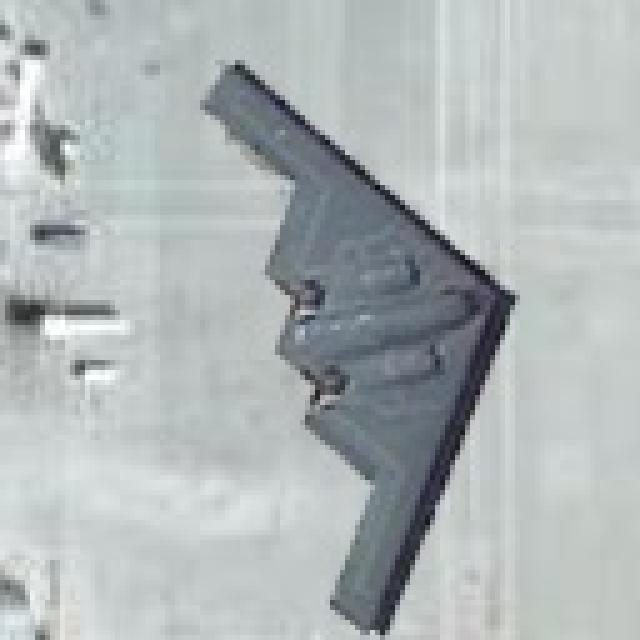B-2_TopDown: (195, 50, 520, 635)
